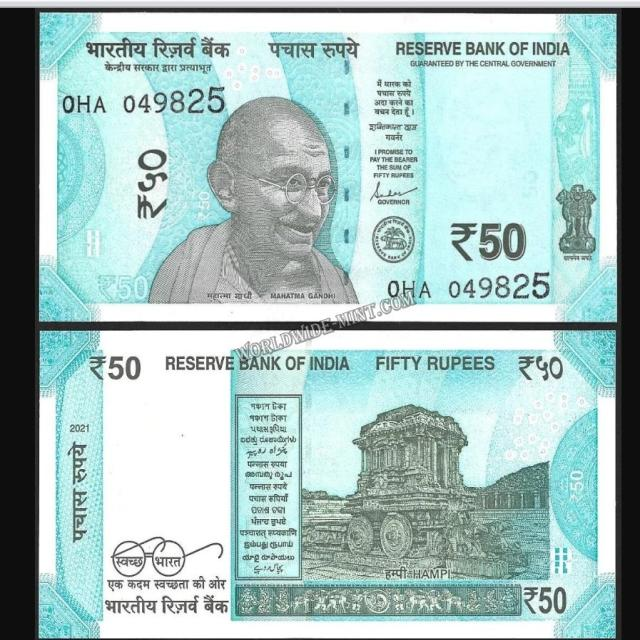50IndianRupees: (37, 335, 613, 640), (228, 338, 618, 638), (256, 13, 615, 319), (38, 15, 390, 323), (37, 331, 357, 640)
